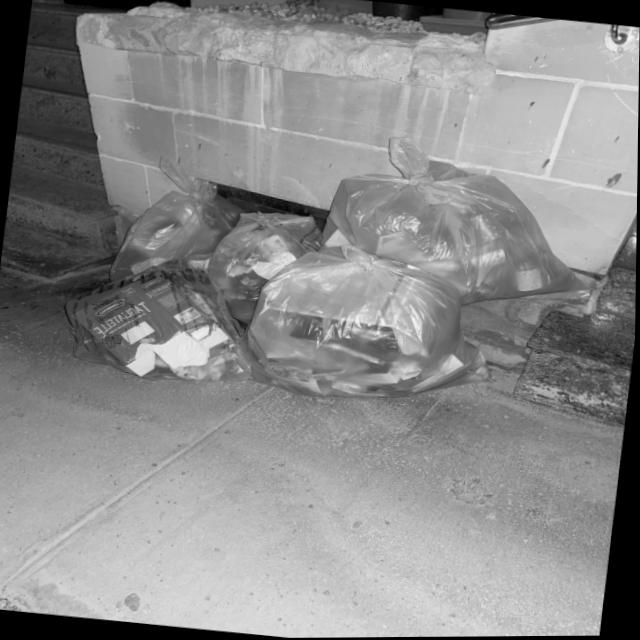Recyclable Material -Grey Bags-: (68, 136, 590, 396)
